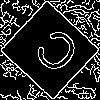C: (25, 25, 83, 84)
